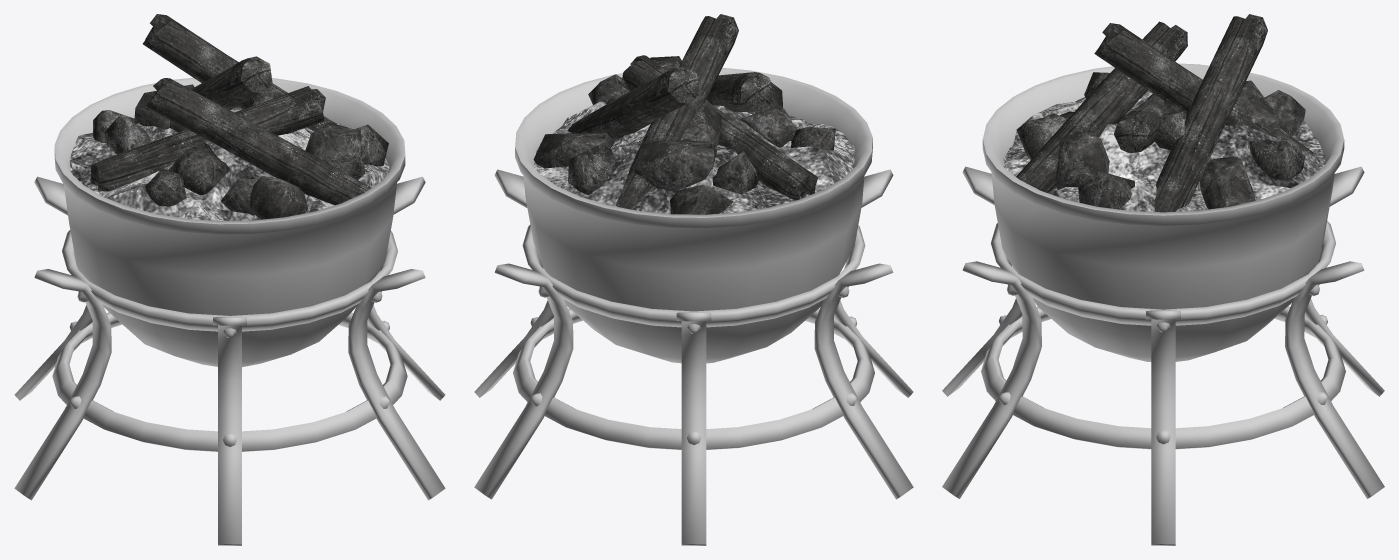
The model's file is SM_Brazier_E.fbx.
The picture shows the model from 3 angles, left to right: view 1: azimuth 30°, elevation 25°; view 2: azimuth 150°, elevation 25°; view 3: azimuth 270°, elevation 25°; orthographic projection. The views are drawn at different scales.
Visible parts, largest first — view 1: SM_Brazier_E_LOD0; view 2: SM_Brazier_E_LOD0; view 3: SM_Brazier_E_LOD0.
Part boxes in pixels (x1,y1,x2,y2): SM_Brazier_E_LOD0: (14, 14, 445, 545); SM_Brazier_E_LOD0: (474, 14, 913, 545); SM_Brazier_E_LOD0: (942, 14, 1384, 545).
Size of the model in its own units: 60.78 by 54.14 by 56.15.
2 materials, 1 textured.
